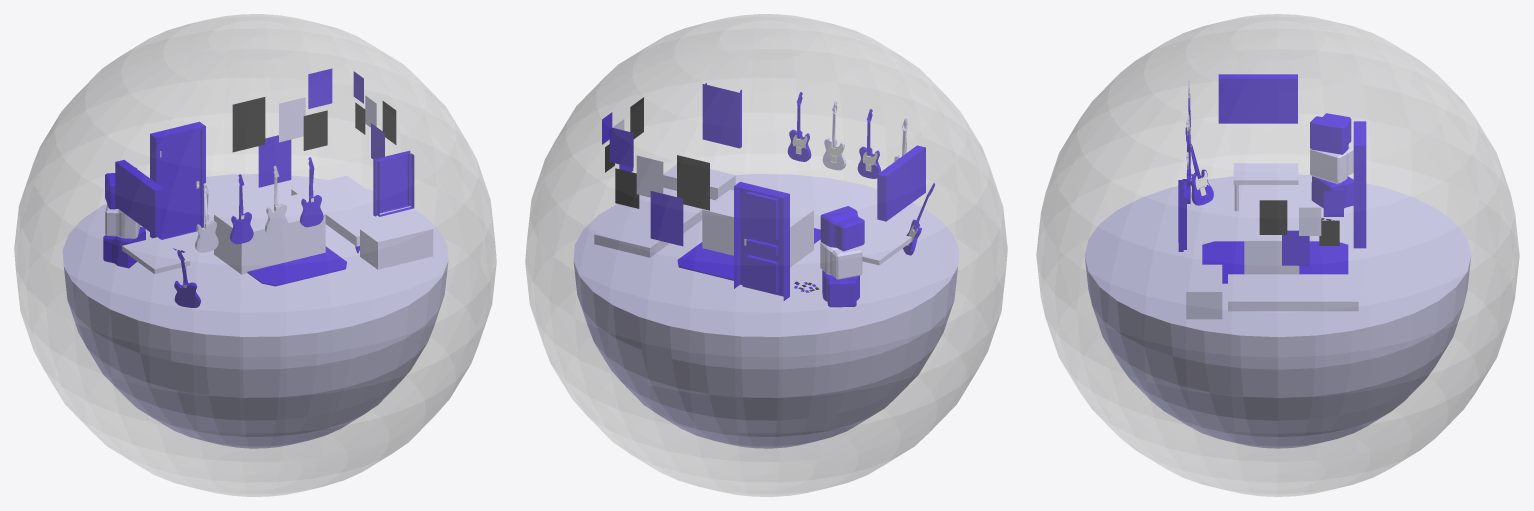
The model's file is table1.glb.
3 views of the same model, side by side, from view 1: azimuth 30°, elevation 25°; view 2: azimuth 150°, elevation 25°; view 3: azimuth 270°, elevation 25° (orthographic).
Visible parts, largest first — view 1: Sphere.002, Sphere, Table, Doors.001, Cube.004, Neck, Cube.006, Cube.003, Walls.001, Plane.005, Plane, Doors (+8 smaller); view 2: Sphere.002, Sphere, Doors.001, Table, Cube.004, Cube.003, Neck, Walls.001, Doors, Tv.002, Plane.004, Plane (+8 smaller); view 3: Sphere.002, Sphere, Cube.004, Cube.003, Table, Plane.005, Cube.006, Doors, Cube.008, Tv.002, Tv.001, Plane.007 (+6 smaller).
Part boxes in pixels (bbox=[...]): Sphere.002: bbox=[14, 14, 496, 496]; Sphere: bbox=[62, 174, 448, 448]; Table: bbox=[214, 194, 325, 274]; Doors.001: bbox=[160, 130, 200, 238]; Cube.004: bbox=[291, 175, 404, 246]; Neck: bbox=[195, 157, 323, 252]; Cube.006: bbox=[360, 215, 433, 269]; Cube.003: bbox=[115, 159, 164, 235]; Walls.001: bbox=[373, 150, 414, 216]; Plane.005: bbox=[247, 246, 346, 286]; Plane: bbox=[232, 97, 265, 152]; Doors: bbox=[150, 121, 205, 239]; Sphere.002: bbox=[525, 14, 1007, 496]; Sphere: bbox=[573, 174, 959, 448]; Doors.001: bbox=[742, 188, 783, 296]; Table: bbox=[702, 189, 813, 267]; Cube.004: bbox=[594, 187, 714, 257]; Cube.003: bbox=[877, 145, 925, 221]; Neck: bbox=[787, 92, 907, 178]; Walls.001: bbox=[702, 83, 741, 148]; Doors: bbox=[734, 181, 789, 300]; Tv.002: bbox=[820, 206, 864, 251]; Plane.004: bbox=[650, 191, 683, 246]; Plane: bbox=[677, 155, 709, 210]; Sphere.002: bbox=[1036, 14, 1519, 496]; Sphere: bbox=[1084, 174, 1471, 448]; Cube.004: bbox=[1228, 274, 1358, 311]; Cube.003: bbox=[1218, 74, 1297, 123]; Table: bbox=[1244, 200, 1299, 274]; Plane.005: bbox=[1202, 241, 1348, 283]; Cube.006: bbox=[1186, 264, 1222, 319]; Doors: bbox=[1353, 121, 1366, 248]; Cube.008: bbox=[1233, 163, 1298, 211]; Tv.002: bbox=[1310, 113, 1351, 154]; Tv.001: bbox=[1310, 147, 1353, 184]; Plane.007: bbox=[1259, 200, 1287, 234].
Bounding box in the file's own units: 2 × 2 × 2.
